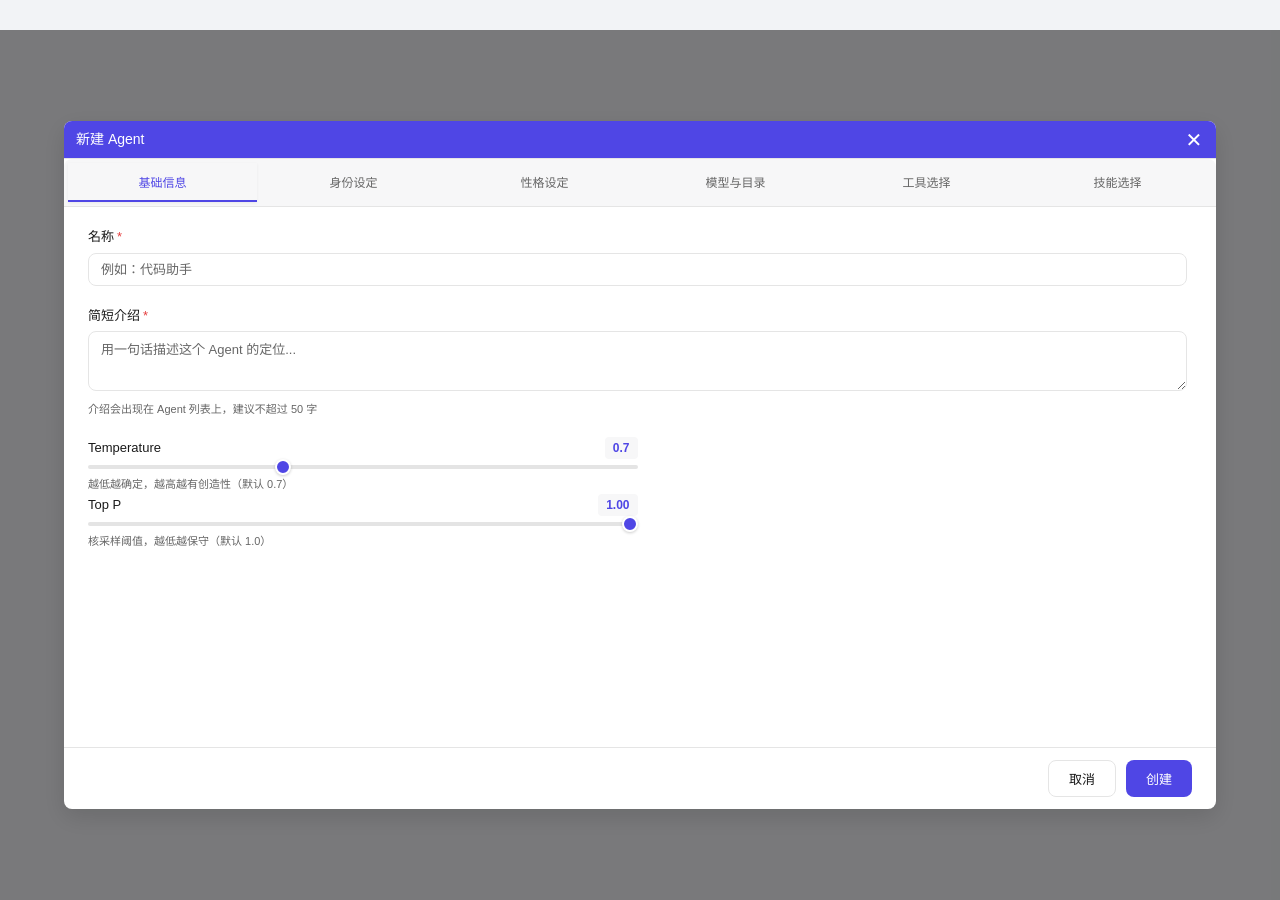
Scenario: AgentEditModal › 保存校验失败：切到出错字段所在 Tab、打红点、聚焦该字段，且不保存
// 先去别的 Tab —— 用来验证「会自己跳回来」
Step 1. Click the tab with class "aem-tab" showing "工具选择" → (926, 182), box [832,163,1021,202]
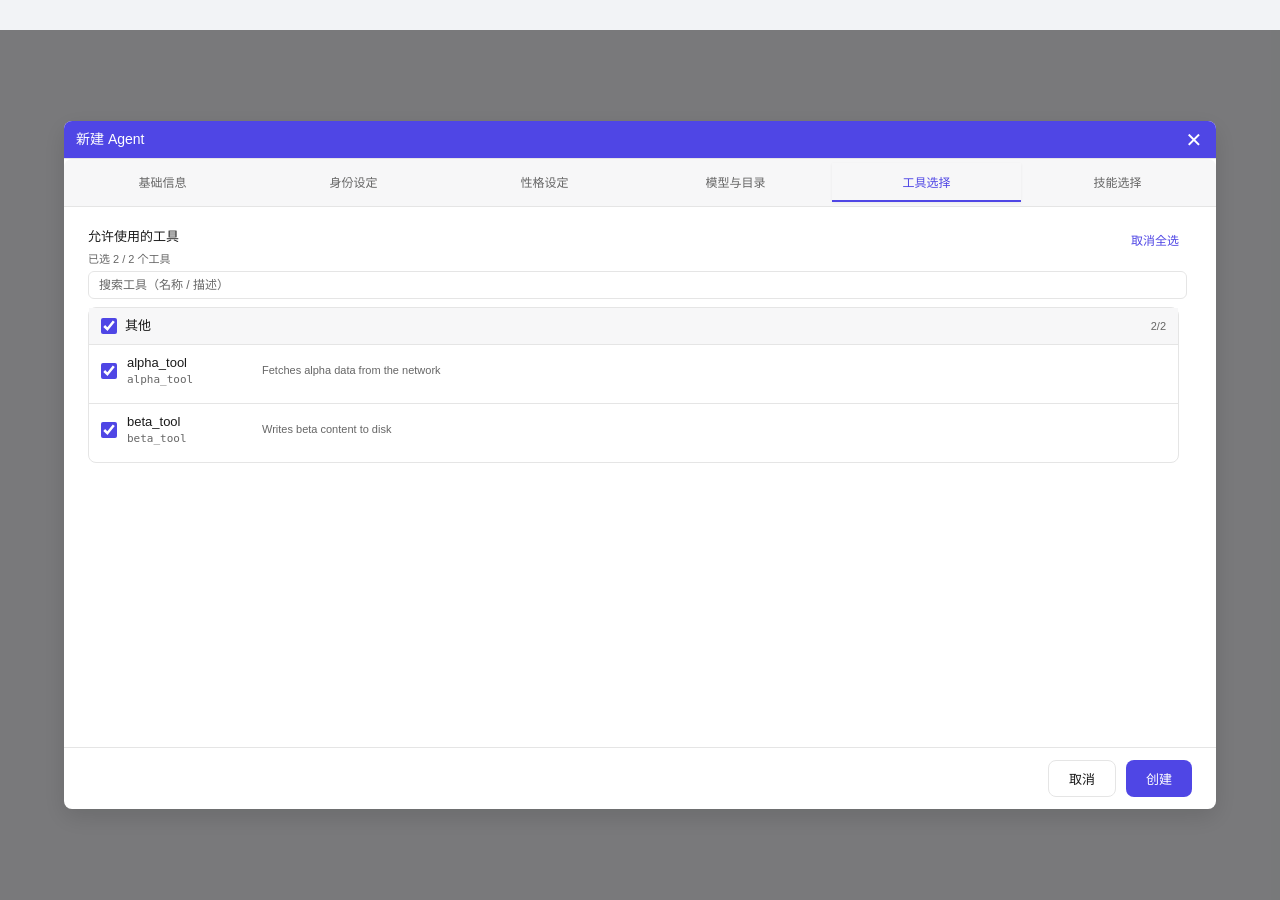
Check: the tab with class "aem-tab" has class "active", box [832,163,1021,202]
Step 2. Click the button with class "btn-confirm" → (1159, 778), box [1126,760,1192,797]
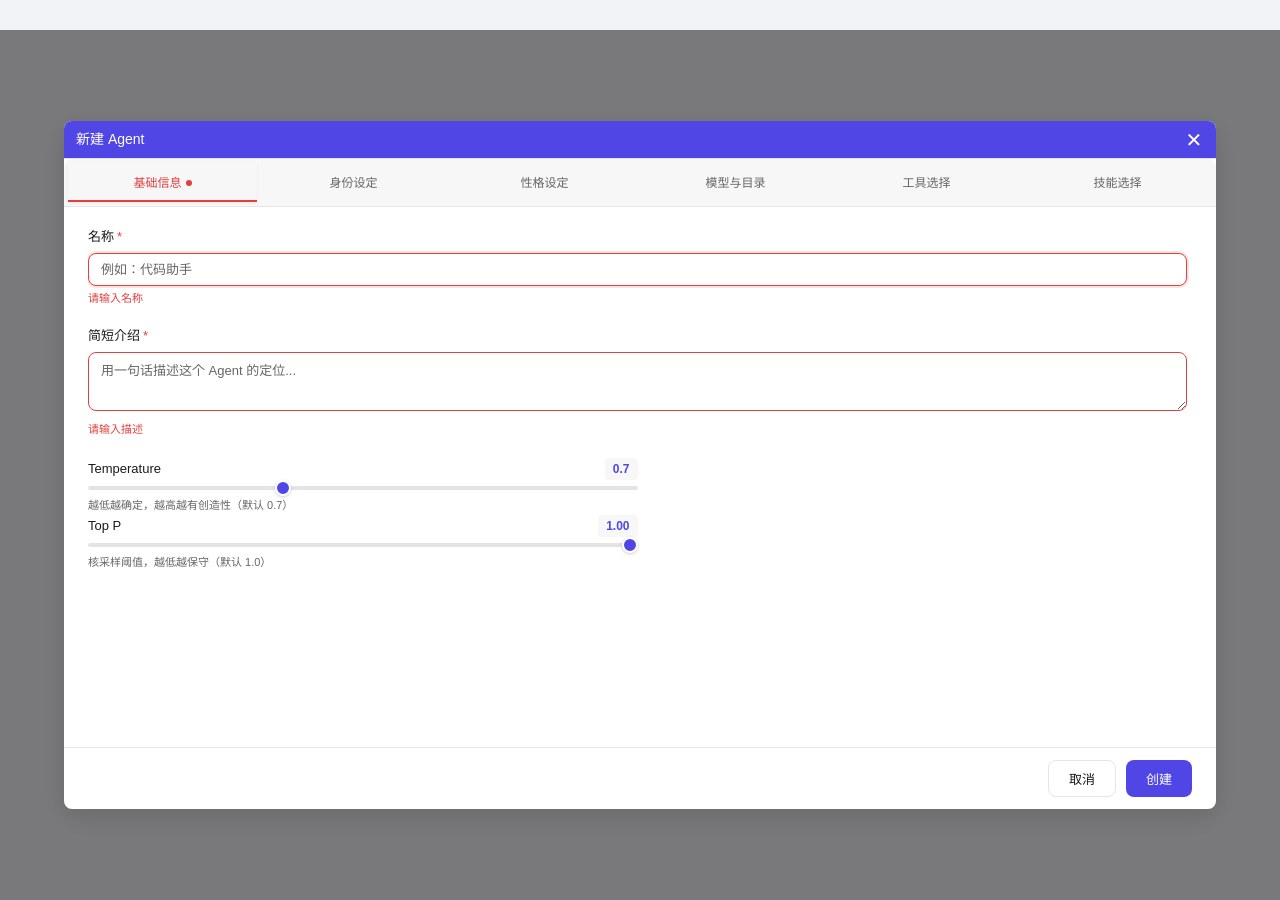
Check: the tab with class "aem-tab" reads "基础信息", box [68,163,257,202]
Check: the element with class "aem-tab-dot" is shown, box [186,180,192,186]
